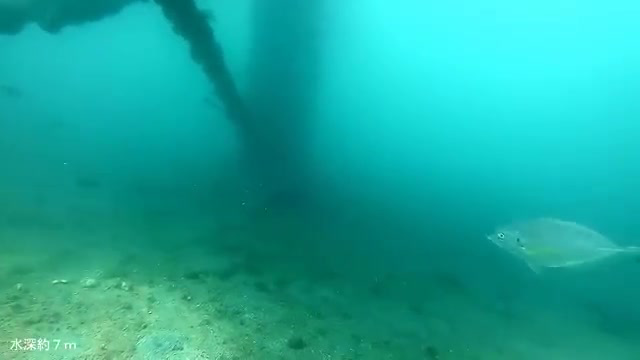suzuki: (482, 207, 637, 278)
